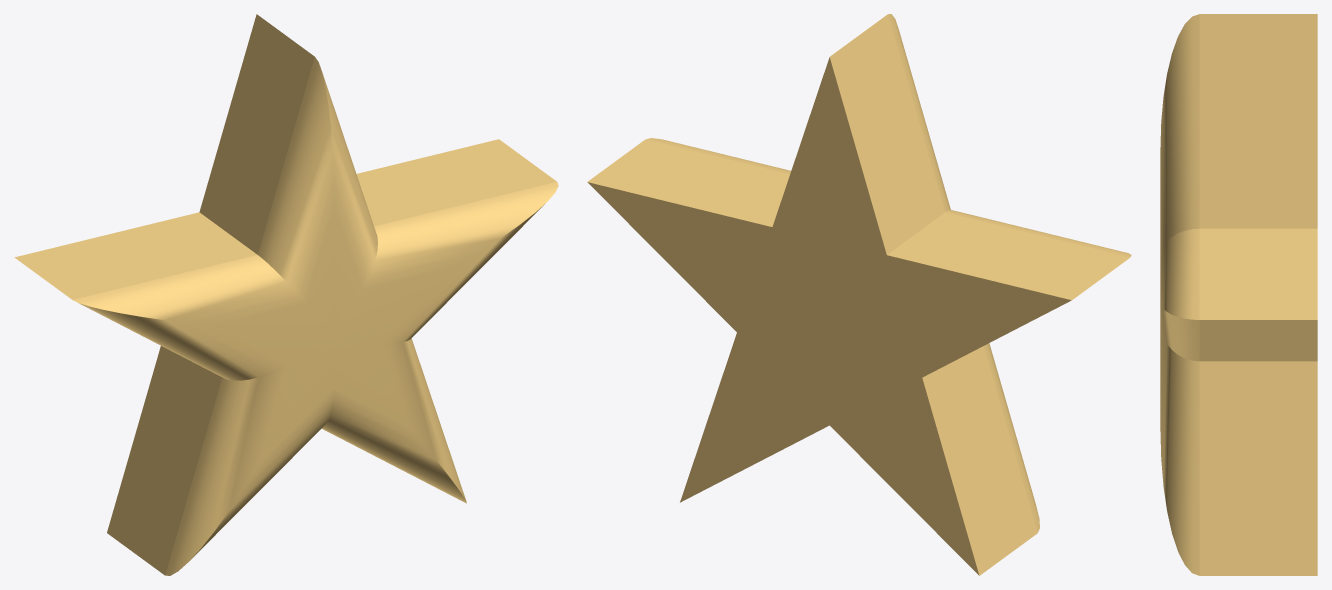
Rendered from Asset 1.gltf.
The picture shows the model from 3 angles, left to right: view 1: azimuth 30°, elevation 25°; view 2: azimuth 150°, elevation 25°; view 3: azimuth 270°, elevation 25°; orthographic projection.
Bounding box in the file's own units: 0.0961 × 0.0914 × 0.0267.
